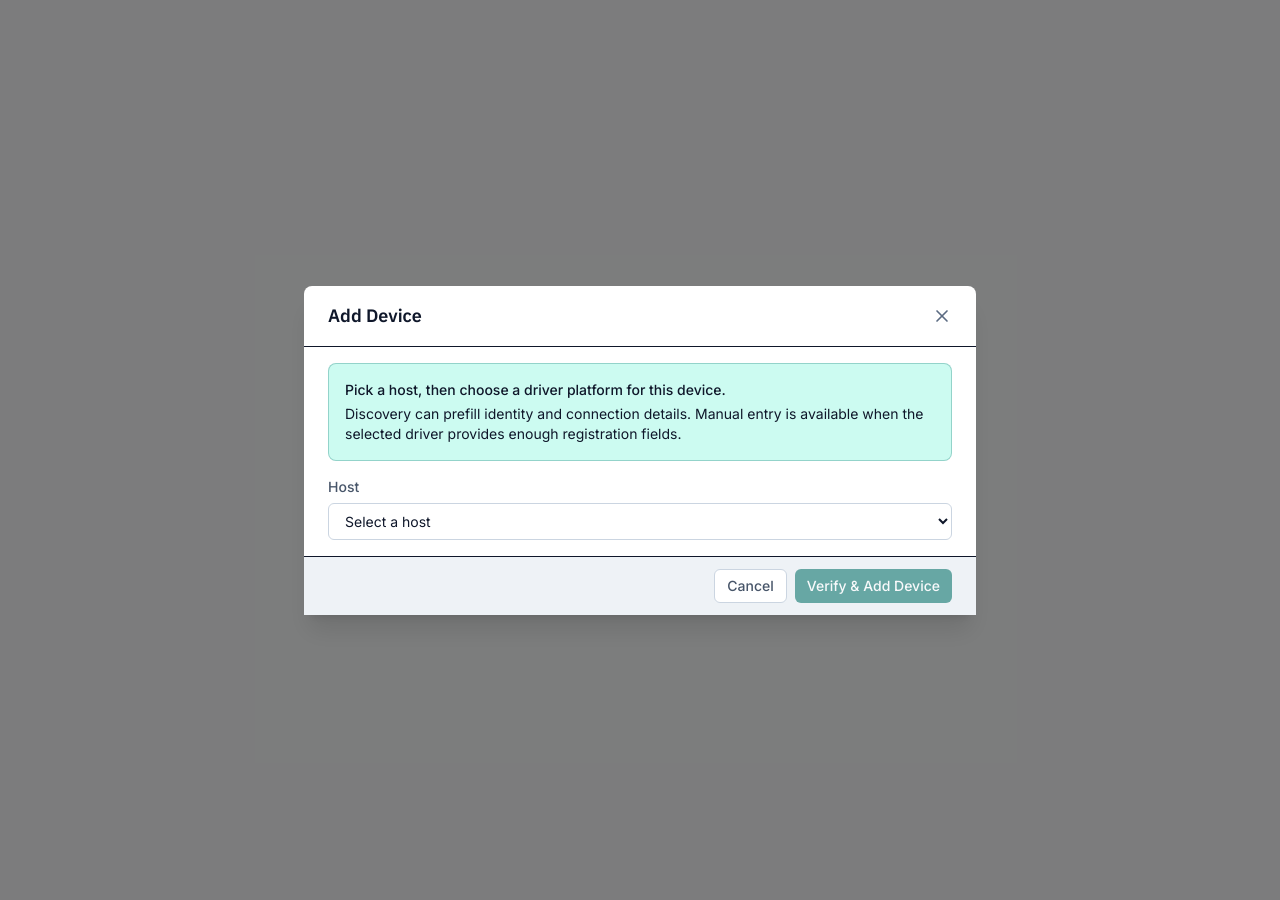
AddDeviceModal manual driver registration › requires an observed device for real-device USB and hides virtual/manual target choices
Select "Host 1" in the dropdown labelled "Host": (640, 521) 328,502 -> 952,540
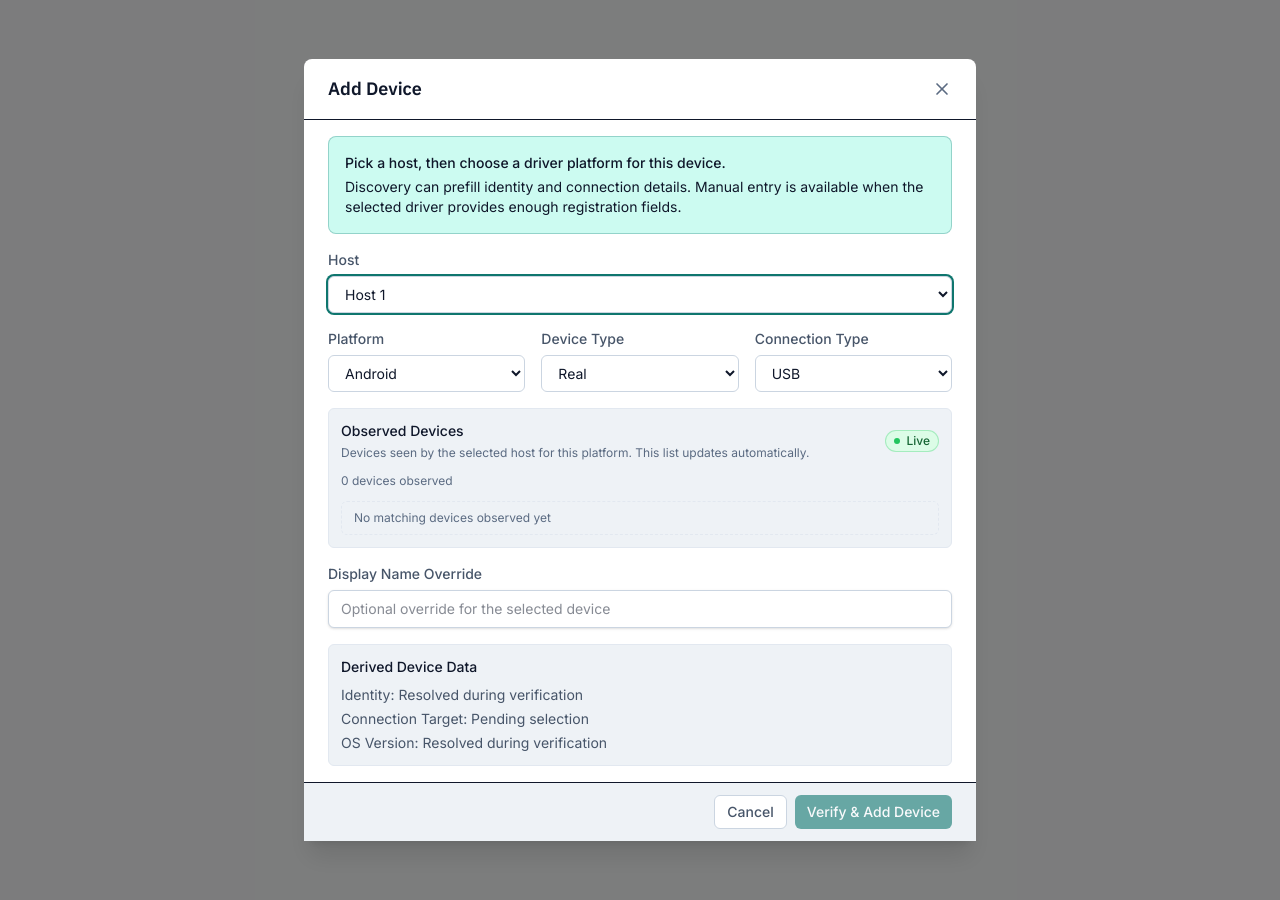
Expected: the button "Verify & Add Device" is disabled, 795,795 -> 952,829
Expected: the dropdown labelled "Connection Type" shows "USB", 755,355 -> 952,392
